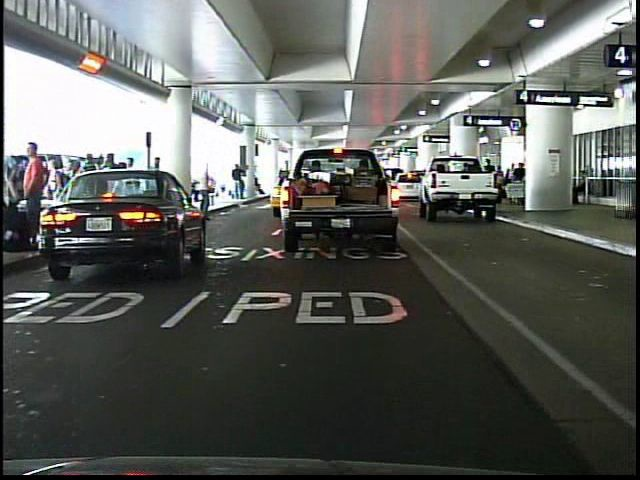person: (23, 138, 49, 255), (148, 152, 169, 219), (199, 159, 218, 221), (232, 161, 251, 199)
